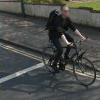bicycles: (42, 38, 98, 87)
